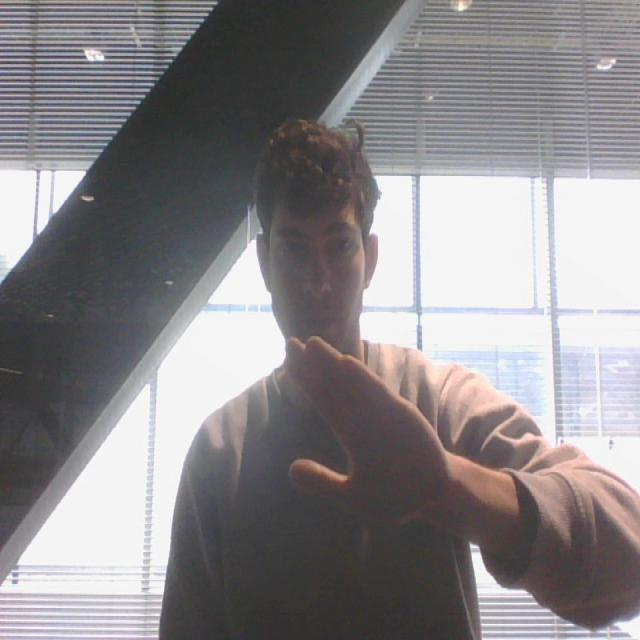backward: (269, 326, 454, 540)
